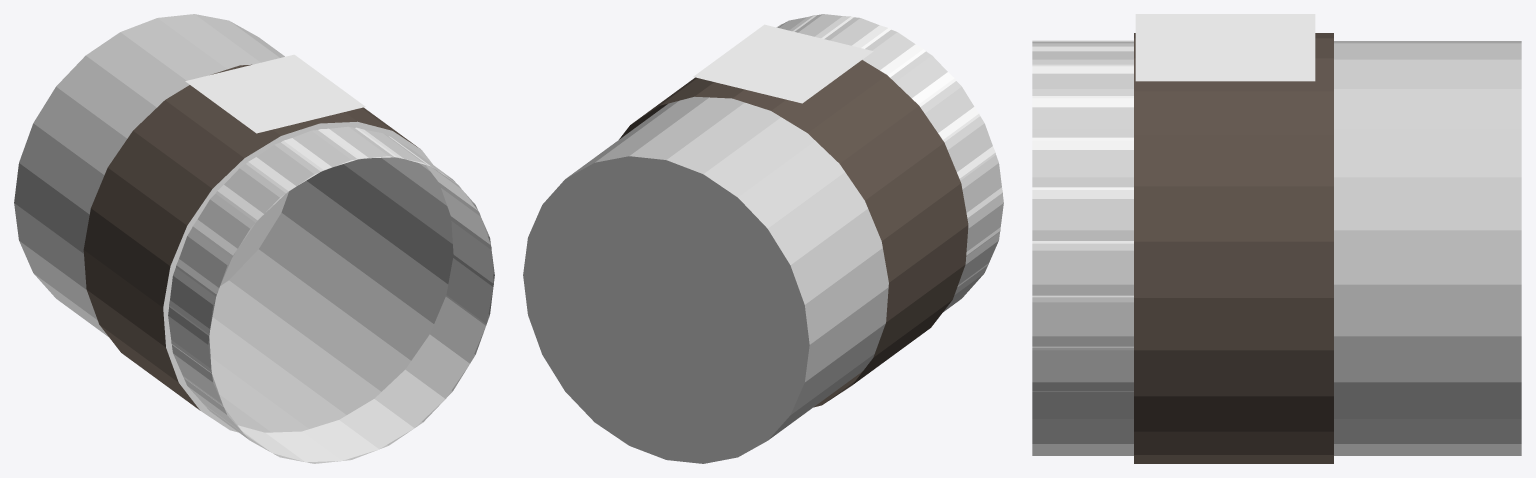
The picture shows the model from 3 angles, left to right: view 1: azimuth 30°, elevation 25°; view 2: azimuth 150°, elevation 25°; view 3: azimuth 270°, elevation 25°; orthographic projection. The views are drawn at different scales.
Parts seen in each view (by area): view 1: cup with cup holder; view 2: cup with cup holder; view 3: cup with cup holder.
Boxes of the visible parts, <box> form: cup with cup holder: <box>14,14,494,463</box>; cup with cup holder: <box>523,14,1003,463</box>; cup with cup holder: <box>1032,14,1521,463</box>.
Bounding box in the file's own units: 1366 × 1387 × 1551.
